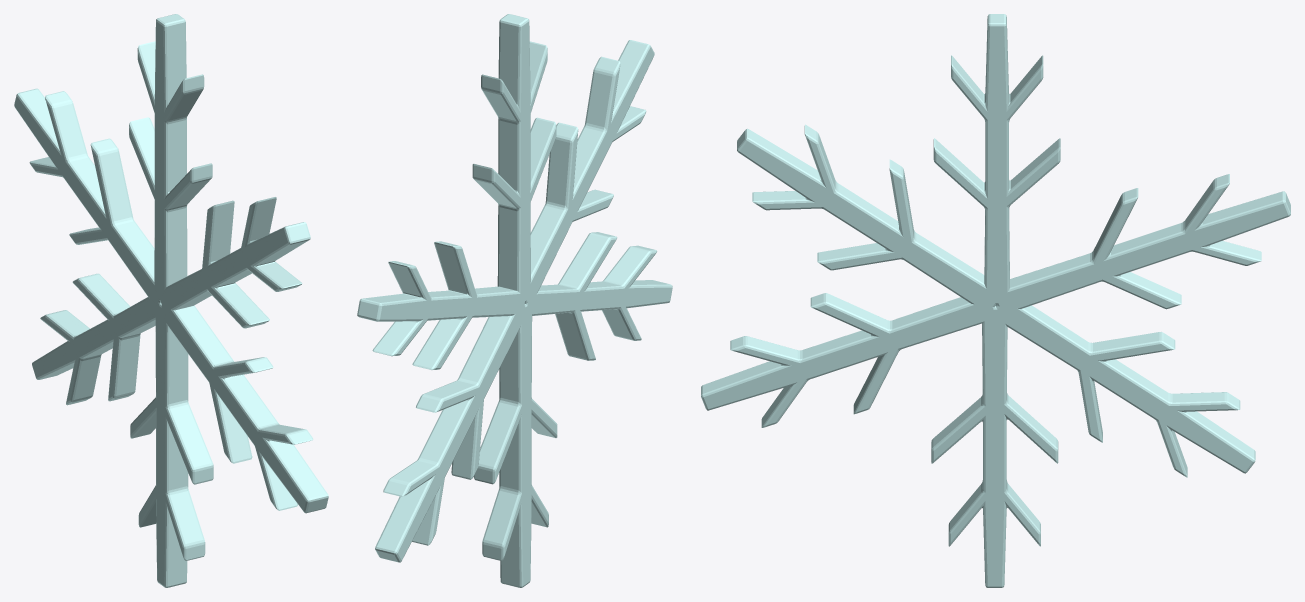
Rendered from snow.gltf.
3 views of the same model, side by side, from view 1: azimuth 30°, elevation 25°; view 2: azimuth 150°, elevation 25°; view 3: azimuth 270°, elevation 25° (orthographic).
Parts seen in each view (by area): view 1: snow; view 2: snow; view 3: snow.
Boxes of the visible parts, <box> form: snow: <box>14,14,328,587</box>; snow: <box>357,14,672,587</box>; snow: <box>701,14,1290,587</box>.
Bounding box in the file's own units: 0.2 × 4.8 × 4.55.
